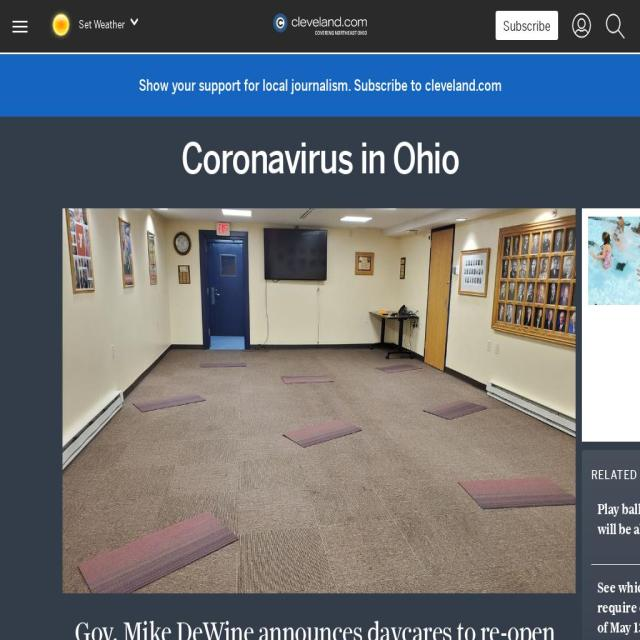button: (62, 208, 576, 598), (6, 63, 634, 109), (587, 216, 640, 434), (41, 8, 138, 42), (273, 12, 367, 40), (496, 11, 558, 40), (564, 0, 598, 52), (598, 0, 632, 52), (0, 9, 41, 43)
heading: (75, 612, 555, 640), (180, 134, 458, 182), (597, 578, 640, 638), (597, 499, 640, 539), (590, 466, 640, 483)
image: (62, 208, 576, 594), (587, 216, 640, 305), (273, 13, 367, 35), (571, 12, 591, 38), (605, 13, 625, 39), (12, 20, 28, 32)
text: (74, 8, 125, 39)
